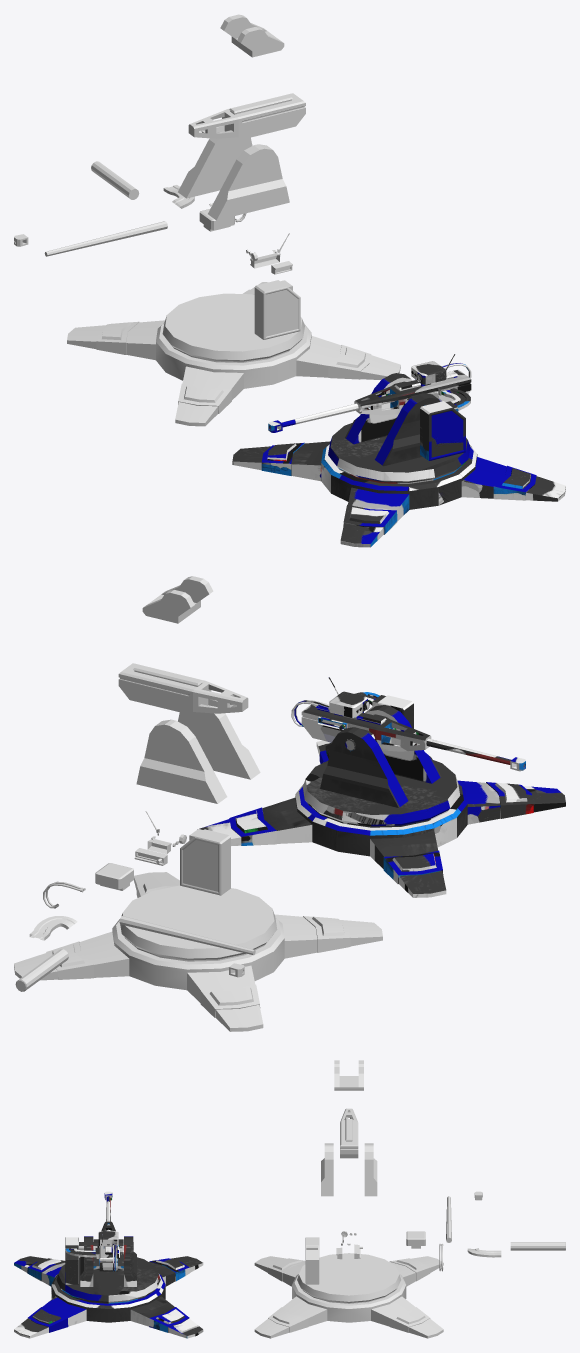
The model's file is turel.fbx.
3 renders of one model, top to bottom at view 1: azimuth 30°, elevation 25°; view 2: azimuth 150°, elevation 25°; view 3: azimuth 270°, elevation 25°, orthographic. The views are drawn at different scales.
Visible parts, largest first — view 1: Circle.002, Circle.001, Cube.023, Cube.013, Cube.022, Cube.021, Cube.011, Cube.012, Cube.025, Cylinder.023, Cylinder.024; view 2: Circle.002, Circle.001, Cube.023, Cube.013, Cube.022, Cube.021, Cube.012, Cube.025, Cylinder.023, Cube.017, Cylinder.024, Cube.007 (+2 smaller); view 3: Circle.002, Circle.001, Cube.023, Cube.013, Cube.022, Cube.021, Cube.025, Cube.011, Cube.012, Cylinder.024.
Boxes of the visible parts, x1,y1,x2,y2 form: Circle.002: [67, 282, 400, 426]; Circle.001: [232, 423, 565, 547]; Cube.023: [178, 131, 289, 220]; Cube.013: [345, 373, 440, 466]; Cube.022: [188, 93, 305, 139]; Cube.021: [254, 280, 300, 339]; Cube.011: [420, 401, 465, 460]; Cube.012: [354, 369, 471, 415]; Cube.025: [220, 14, 284, 57]; Cylinder.023: [44, 221, 167, 256]; Cylinder.024: [91, 161, 139, 199]; Circle.002: [14, 872, 382, 1031]; Circle.001: [197, 740, 565, 897]; Cube.023: [136, 705, 260, 803]; Cube.013: [320, 705, 441, 807]; Cube.022: [118, 663, 248, 714]; Cube.021: [180, 829, 230, 895]; Cube.012: [301, 701, 431, 751]; Cube.025: [142, 576, 213, 623]; Cylinder.023: [119, 916, 255, 955]; Cube.017: [95, 863, 133, 890]; Cylinder.024: [15, 949, 68, 991]; Cube.007: [329, 691, 367, 719]; Circle.002: [254, 1253, 443, 1338]; Circle.001: [14, 1254, 203, 1338]; Cube.023: [321, 1143, 377, 1196]; Cube.013: [80, 1236, 136, 1286]; Cube.022: [340, 1108, 358, 1158]; Cube.021: [305, 1237, 319, 1284]; Cube.025: [334, 1060, 363, 1090]; Cube.011: [65, 1237, 78, 1284]; Cube.012: [99, 1221, 117, 1271]; Cylinder.024: [510, 1242, 565, 1250].
Bounding box in the file's own units: 404 × 527 × 1097.
1 material, 1 textured.
